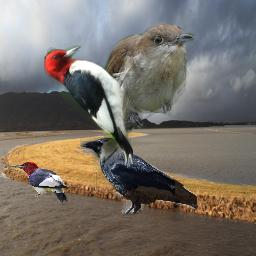Crow: (80, 137, 197, 214)
Cuckoo: (94, 22, 194, 165)
Woodpecker: (44, 45, 133, 164), (11, 162, 70, 204)
